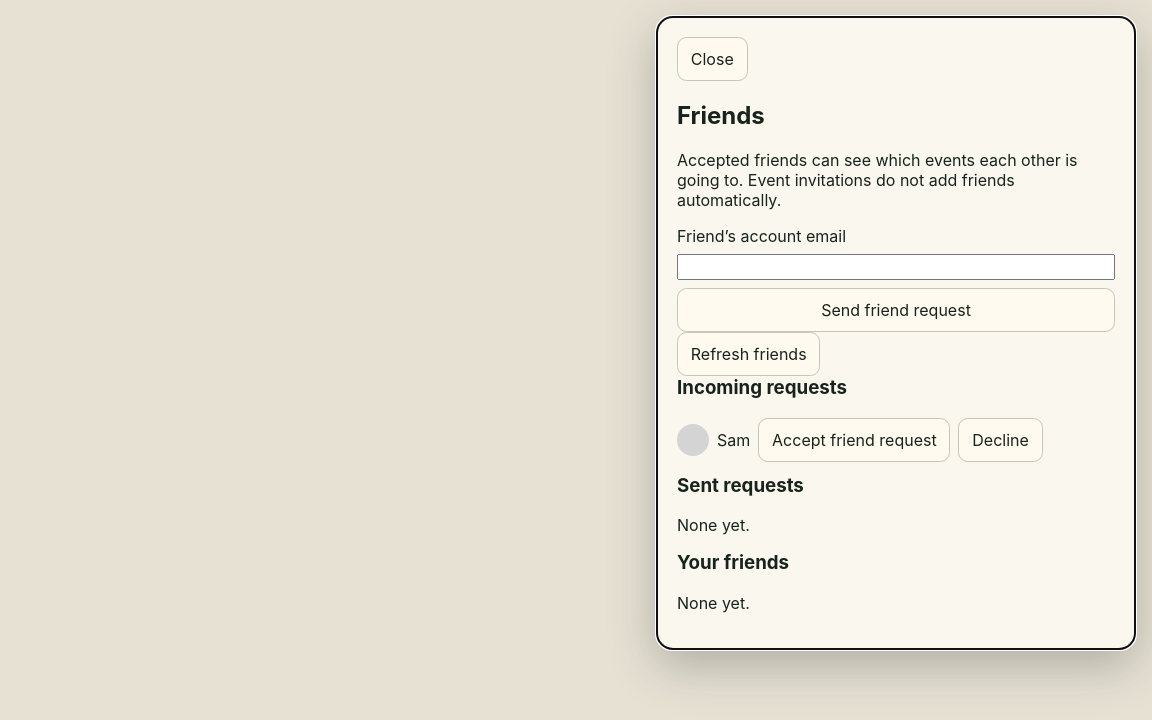
Test: requires an explicit friend accept and permits removal
The width and height of the screenshot is (1152, 720).
Click the button "Accept friend request": click(854, 440) top-left (758, 418), bottom-right (950, 462)
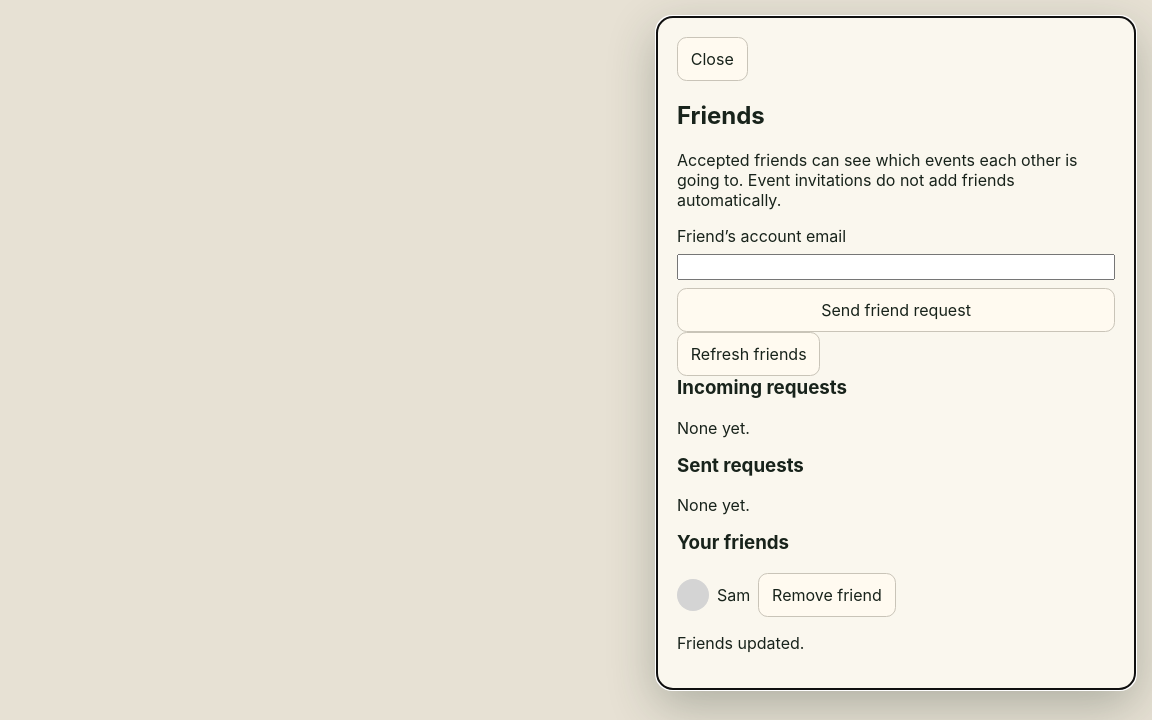
Click the button "Remove friend": click(827, 595) top-left (758, 573), bottom-right (896, 617)
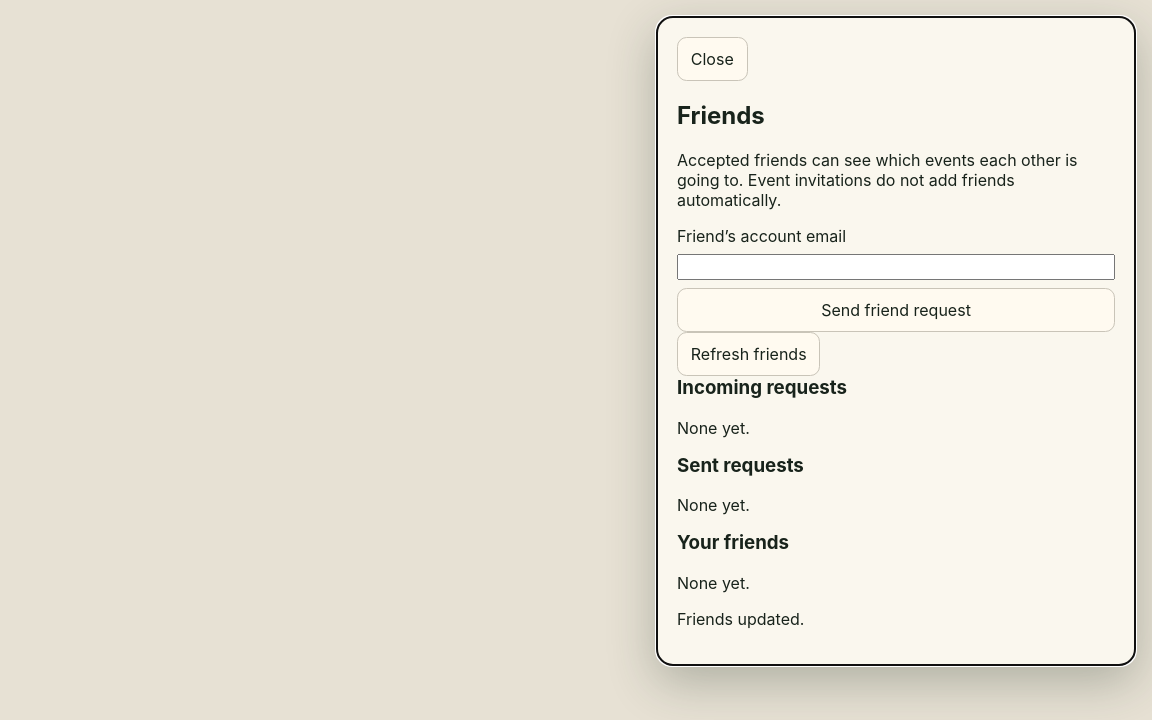
expect the text "Sam" is gone: met
